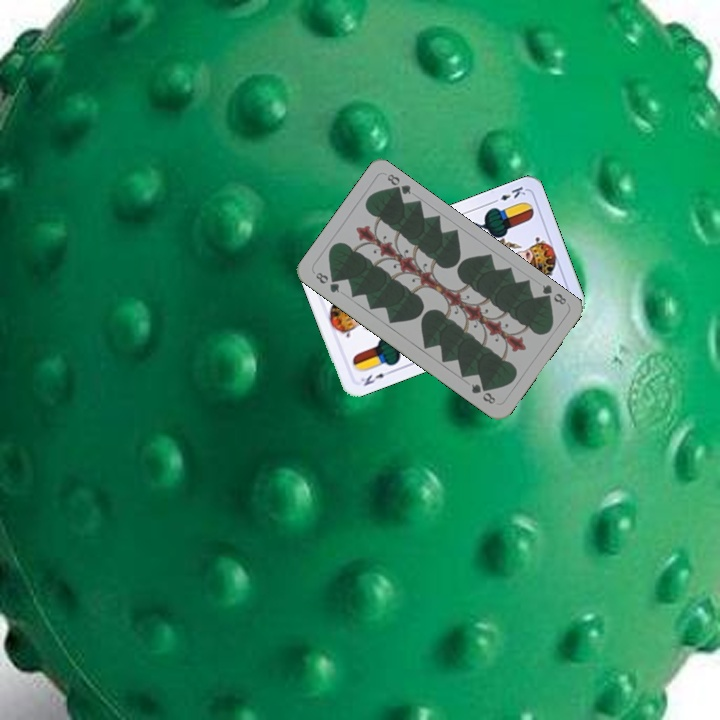EK: (488, 182, 528, 206), (357, 366, 394, 389)
G8: (537, 280, 569, 307), (311, 268, 342, 295)
